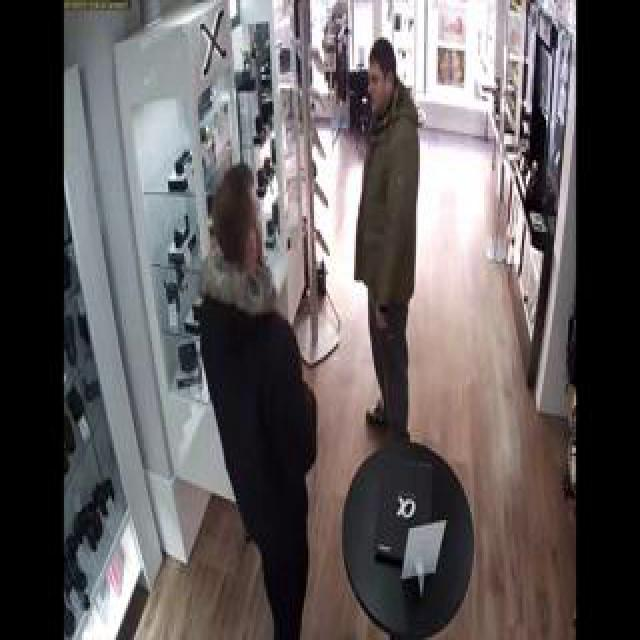shoplifting: (146, 0, 467, 622)
